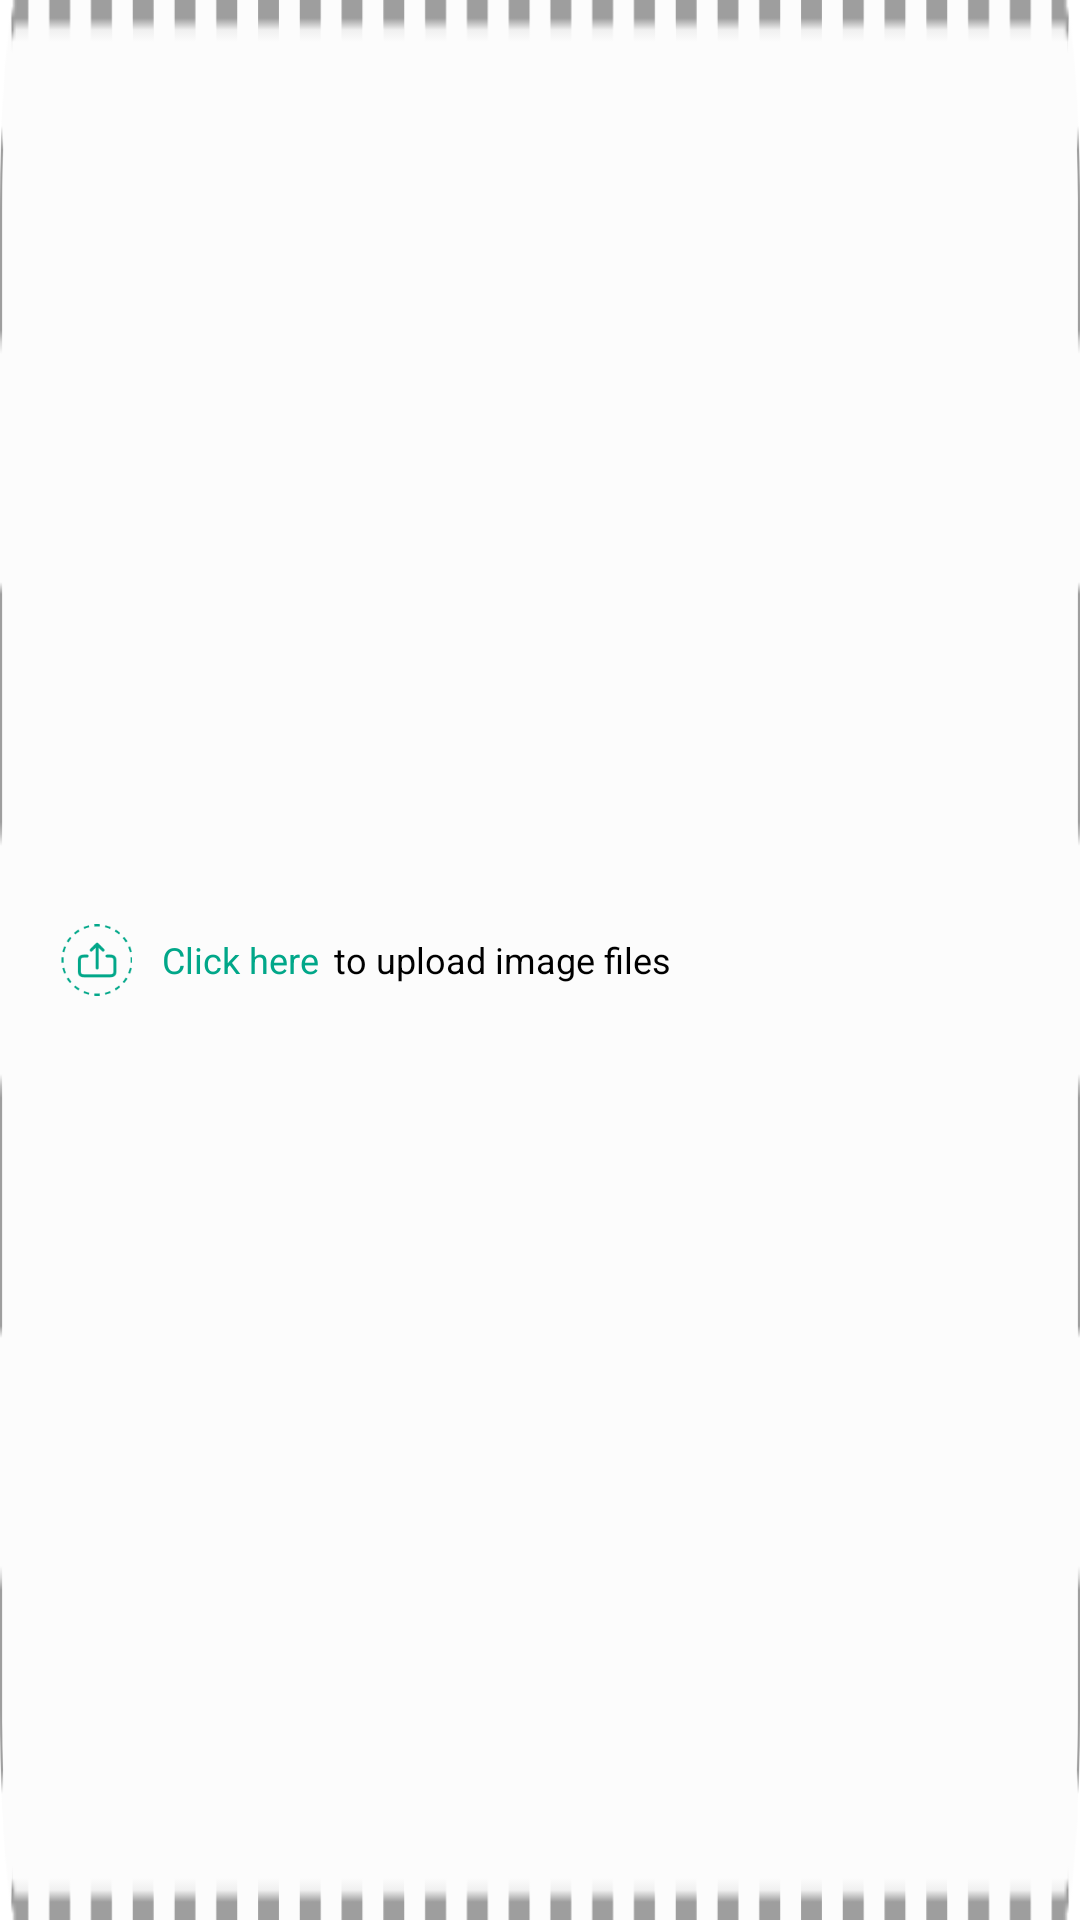

Screen size 1080*1920. Icon name, then its box in pixels as (x1, y1, x2, y2):
upload: (61, 924, 132, 996)
